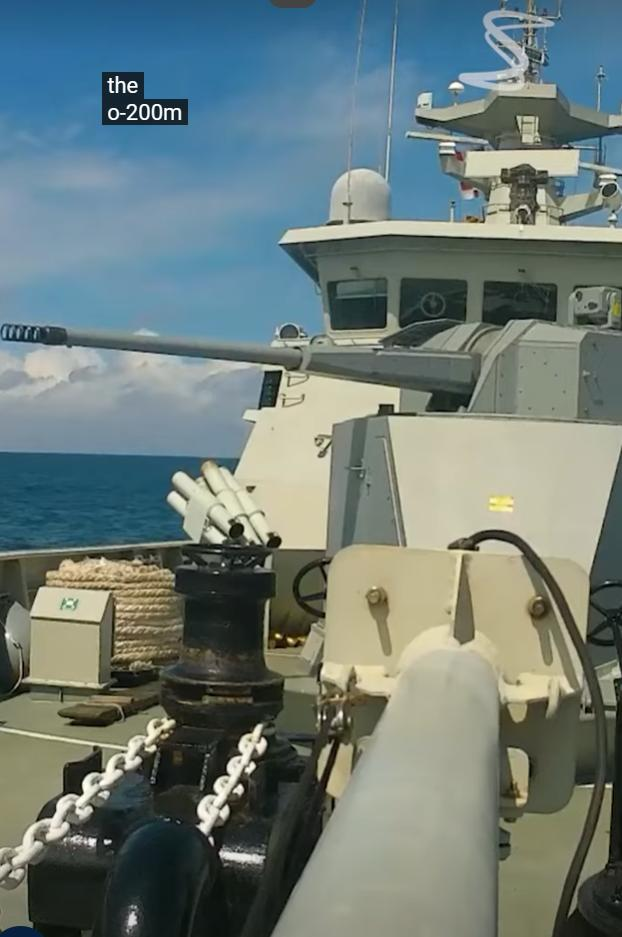MIL_SPG: (2, 320, 622, 422)
